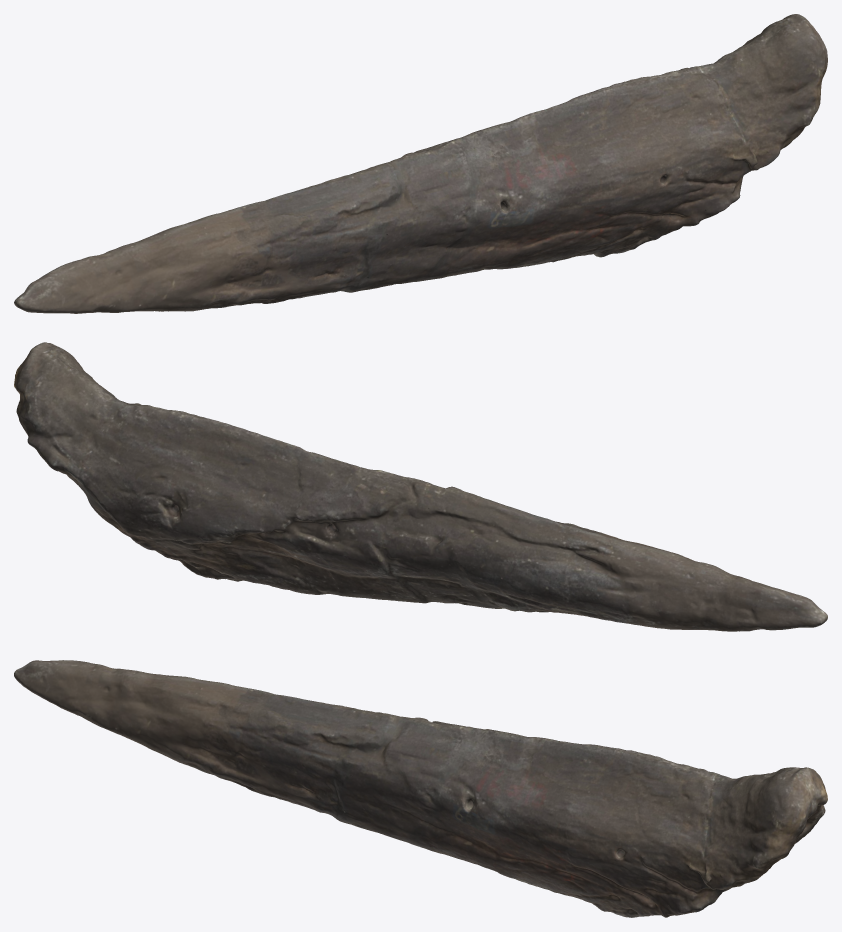
The picture shows the model from 3 angles, top to bottom: view 1: azimuth 30°, elevation 25°; view 2: azimuth 150°, elevation 25°; view 3: azimuth 330°, elevation 25°; orthographic projection.
Visible parts, largest first — view 1: specimen; view 2: specimen; view 3: specimen.
Boxes of the visible parts, x1=… form: specimen: x1=14, y1=14, x2=827, y2=313; specimen: x1=14, y1=342, x2=827, y2=631; specimen: x1=14, y1=660, x2=827, y2=917.
Size of the model in its own units: 0.3035 by 0.0691 by 0.0389.
Materials: 1 (1 with a texture image).
